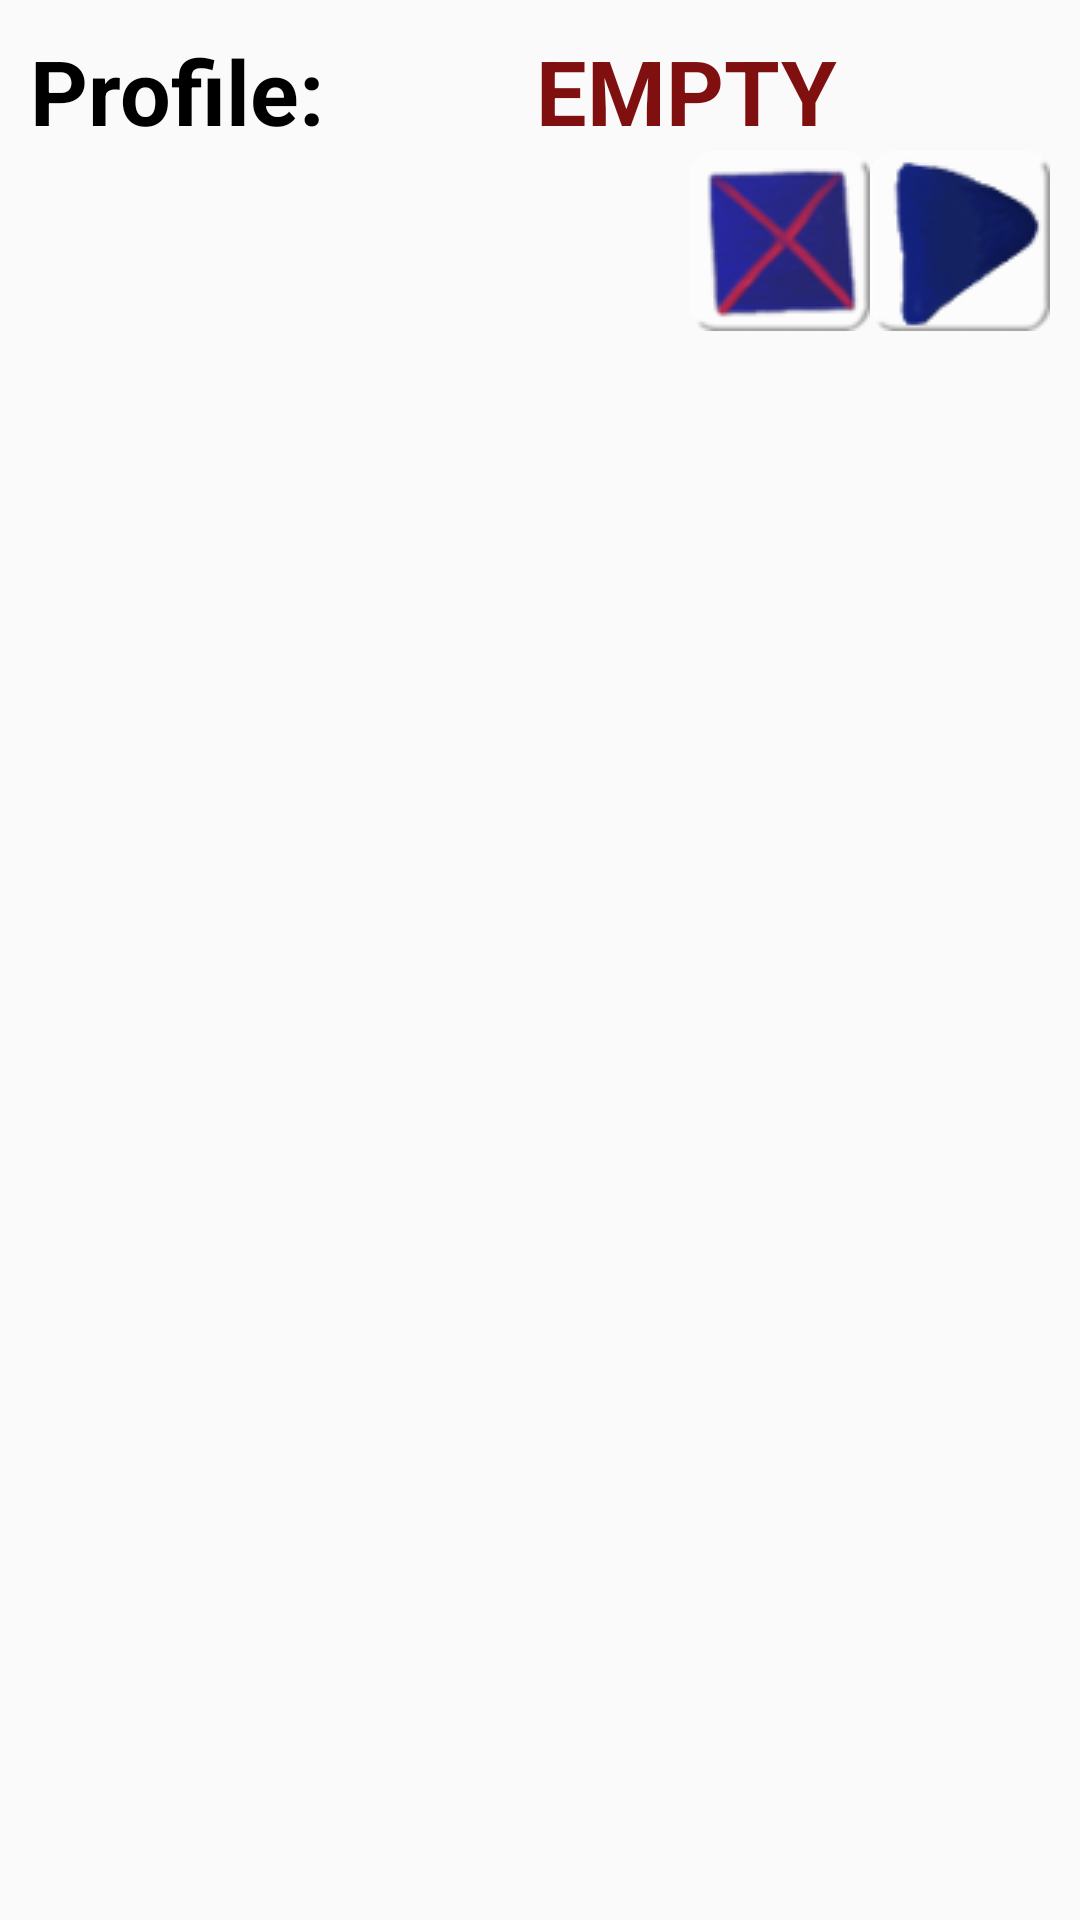

Where icons sit on this 1080×1920 app screen, as (x1, y1, x2, y2):
cross: (699, 162, 870, 331)
play: (879, 162, 1050, 331)
